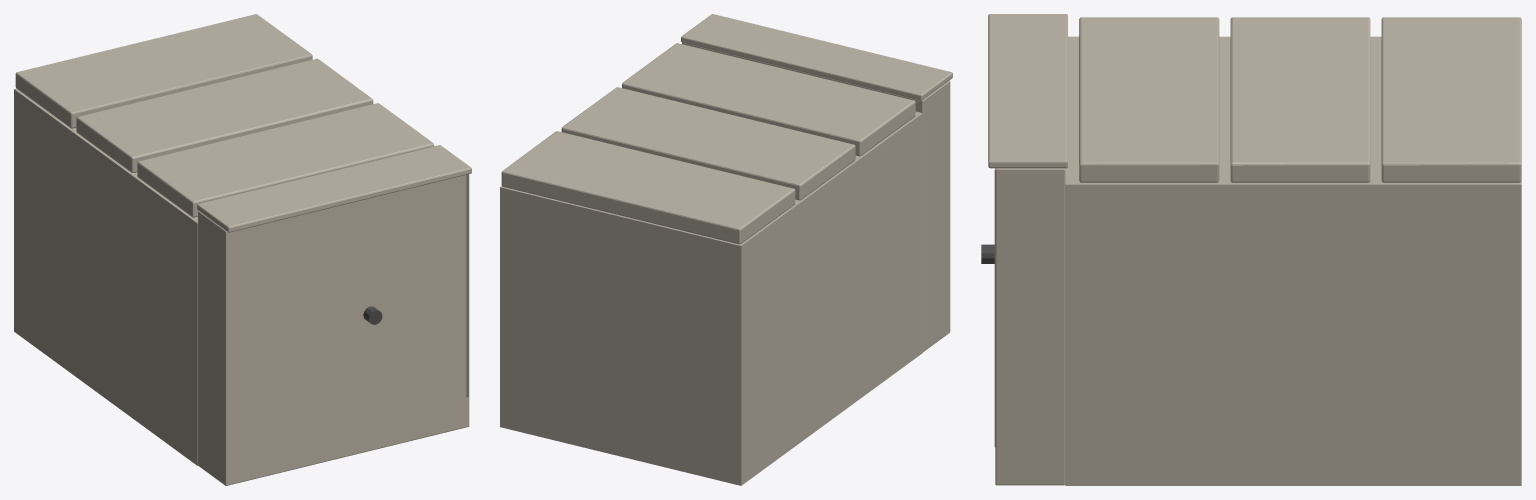
File: street_terrace_wall_weephole.fbx
3 views of the same model, side by side, from view 1: azimuth 30°, elevation 25°; view 2: azimuth 150°, elevation 25°; view 3: azimuth 270°, elevation 25° (orthographic). The views are drawn at different scales.
Parts seen in each view (by area): view 1: Street_TerraceWall_Weephole; view 2: Street_TerraceWall_Weephole; view 3: Street_TerraceWall_Weephole.
Boxes of the visible parts, <box> form: Street_TerraceWall_Weephole: <box>14,14,471,485</box>; Street_TerraceWall_Weephole: <box>500,14,952,485</box>; Street_TerraceWall_Weephole: <box>981,14,1521,485</box>.
Bounding box in the file's own units: 250 × 256 × 386.
